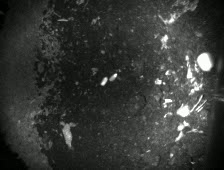corn: (195, 50, 215, 74), (106, 71, 119, 83), (98, 75, 110, 87)
